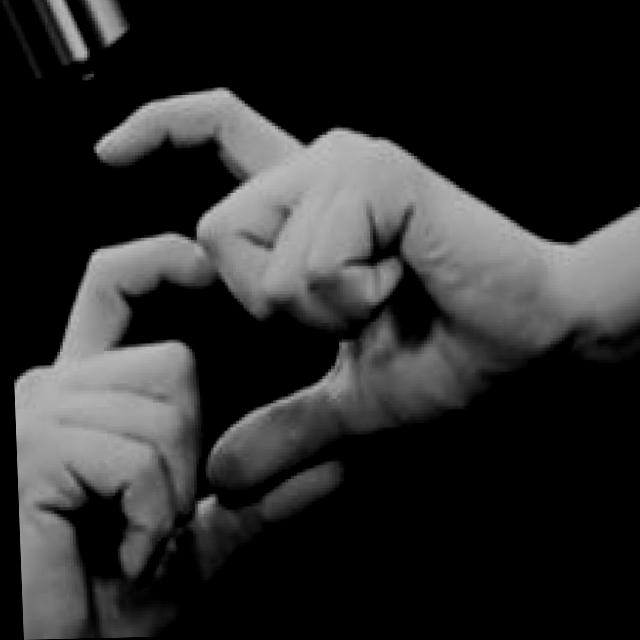G: (4, 70, 584, 640)
